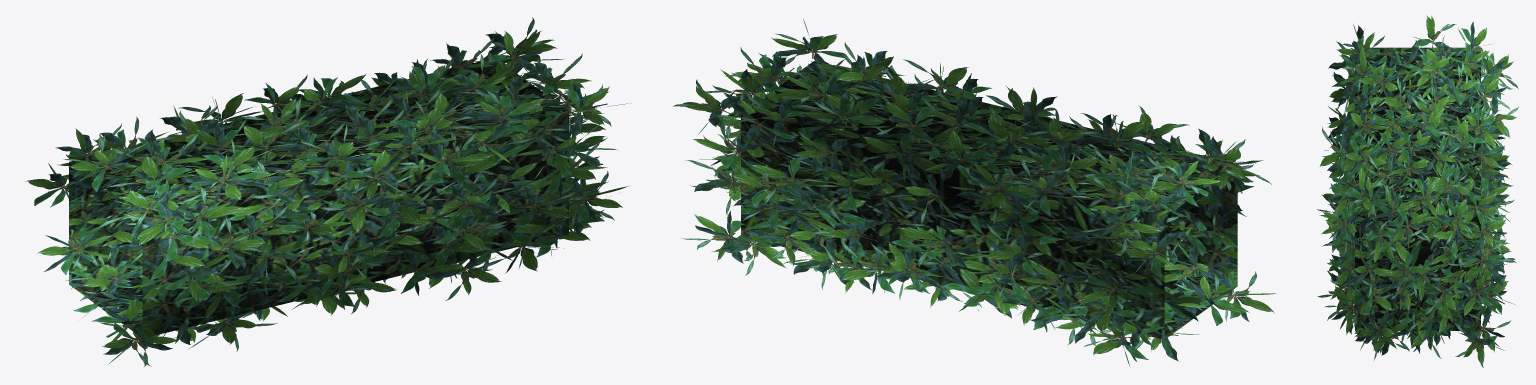
Rendered from Hedge_Straight.fbx.
The picture shows the model from 3 angles, left to right: view 1: azimuth 30°, elevation 25°; view 2: azimuth 150°, elevation 25°; view 3: azimuth 270°, elevation 25°; orthographic projection. The views are drawn at different scales.
Visible parts, largest first — view 1: Hedge_Straight; view 2: Hedge_Straight; view 3: Hedge_Straight.
Boxes of the visible parts, x1,y1,x2,y2 form: Hedge_Straight: (25, 17, 631, 366); Hedge_Straight: (673, 19, 1275, 365); Hedge_Straight: (1317, 15, 1518, 367).
Bounding box in the file's own units: 1.25 × 0.45 × 0.48.
1 material, 1 textured.
